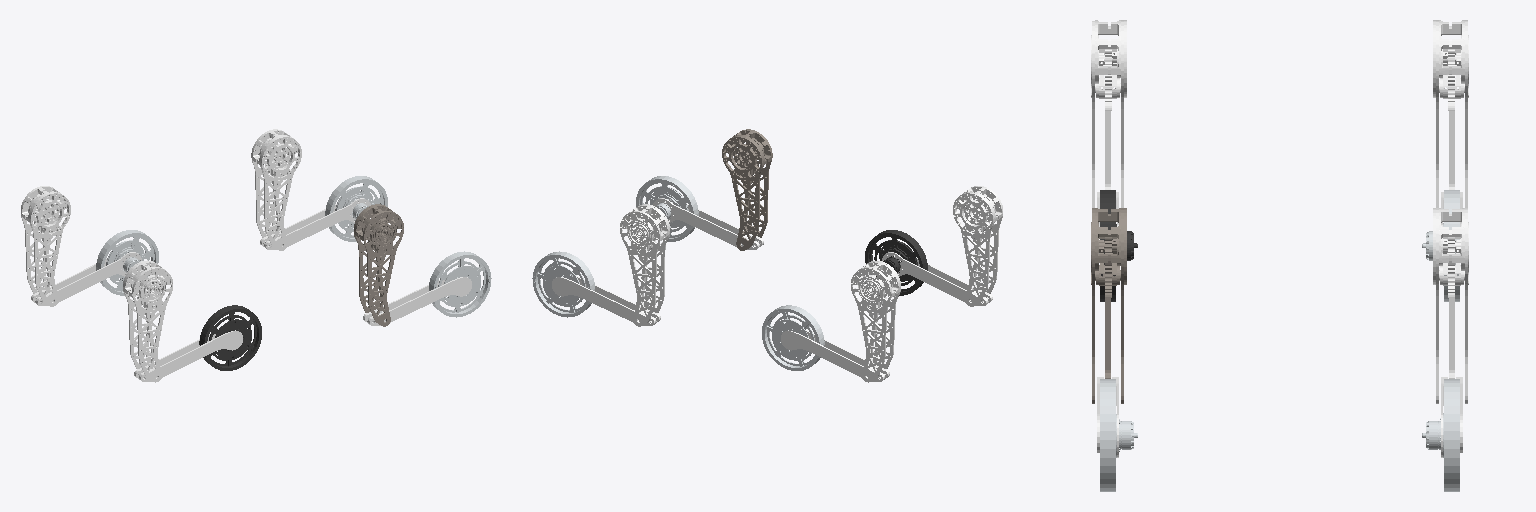
URDF robot description (dog):
<?xml version="1.0" encoding="utf-8"?>
<!-- This URDF was automatically created by SolidWorks to URDF Exporter! Originally created by Stephen Brawner (brawner@gmail.com) 
     Commit Version: 1.6.0-4-g7f85cfe  Build Version: 1.6.7995.38578
     For more information, please see http://wiki.ros.org/sw_urdf_exporter -->
<robot
  name="dog">
  <link
    name="base_link">
    <inertial>
      <origin
        xyz="-0.000978596710737544 -2.76671556373367E-06 0.0048537144010132"
        rpy="0 0 0" />
      <mass
        value="6.554" />
      <inertia
        ixx="0.070924348"
        ixy="-0.000000893"
        ixz="-0.000334625"
        iyy="0.214429824"
        iyz="-0.000000488"
        izz="0.271037828" />
    </inertial>
    <visual>
      <origin
        xyz="0 0 0"
        rpy="0 0 0" />
      <geometry>
        <mesh
          filename="meshes/base_link.STL" />
      </geometry>
      <material
        name="">
        <color
          rgba="0.752941176470588 0.752941176470588 0.752941176470588 1" />
      </material>
    </visual>
    <collision>
      <origin
        xyz="0 0 0"
        rpy="0 0 0" />
      <geometry>
        <mesh
          filename="meshes/base_link.STL" />
      </geometry>
    </collision>
  </link>
  <link
    name="imu_link">
    <inertial>
      <origin xyz="0 0 0" rpy="0 0 0" />
      <mass value="0.01" />
      <inertia ixx="1e-06" ixy="0" ixz="0" iyy="1e-06" iyz="0" izz="1e-06" />
    </inertial>
  </link>

  <joint name="imu_joint" type="fixed">
    <origin xyz="0 0 0.062" rpy="0 0 0" />
    <parent link="base_link" />
    <child link="imu_link" />
  </joint>
  
  <link
    name="lf_leg_link">
    <inertial>
      <origin
        xyz="0.0815883862244149 0.0369033194457119 1.2458898216848E-05"
        rpy="0 0 0" />
      <mass
        value="1.791" />
      <inertia
        ixx="0.003851386"
        ixy="-0.000179885"
        ixz="-0.000004004"
        iyy="0.002697626"
        iyz="0.000001446"
        izz="0.004071868" />
    </inertial>
    <visual>
      <origin
        xyz="0 0 0"
        rpy="0 0 0" />
      <geometry>
        <mesh
          filename="meshes/lf_leg_link.STL" />
      </geometry>
      <material
        name="">
        <color
          rgba="0.752941176470588 0.752941176470588 0.752941176470588 1" />
      </material>
    </visual>
    <collision>
      <origin
        xyz="0 0 0"
        rpy="0 0 0" />
      <geometry>
        <mesh
          filename="meshes/lf_leg_link.STL" />
      </geometry>
    </collision>
  </link>
  <joint
    name="lf_leg_joint"
    type="revolute">
    <origin
      xyz="0.2305 0.12 0"
      rpy="0 0 0" />
    <parent
      link="base_link" />
    <child
      link="lf_leg_link" />
    <axis
      xyz="1 0 0" />
    <limit
      lower="-1.0472"
      upper="1.0472"
      effort="35.5"
      velocity="30.1" />
  </joint>
  <link
    name="lf_bleg_link">
    <inertial>
      <origin
        xyz="0.00326969519799225 0.125584147008189 -0.0345091294437729"
        rpy="0 0 0" />
      <mass
        value="0.533" />
      <inertia
        ixx="0.002211625"
        ixy="0.000001148"
        ixz="-0.000227446"
        iyy="0.002380324"
        iyz="-0.000008116"
        izz="0.000413591" />
    </inertial>
    <visual>
      <origin
        xyz="0 0 0"
        rpy="0 0 0" />
      <geometry>
        <mesh
          filename="meshes/lf_bleg_link.STL" />
      </geometry>
      <material
        name="">
        <color
          rgba="1 1 1 1" />
      </material>
    </visual>
    <collision>
      <origin
        xyz="0 0 0"
        rpy="0 0 0" />
      <geometry>
        <mesh
          filename="meshes/lf_bleg_link.STL" />
      </geometry>
    </collision>
  </link>
  <joint
    name="lf_bleg_joint"
    type="revolute">
    <origin
      xyz="0.0858 0 0"
      rpy="0 0 0" />
    <parent
      link="lf_leg_link" />
    <child
      link="lf_bleg_link" />
    <axis
      xyz="0 1 0" />
    <limit
      lower="-1.5707963267948966"
      upper="3.4907"
      effort="35.5"
      velocity="30.1" />
  </joint>
  <link
    name="lf_sleg_link">
    <inertial>
      <origin
        xyz="-0.00104998612844398 0.000402816132214073 -0.0800372615092895"
        rpy="0 0 0" />
      <mass
        value="0.170" />
      <inertia
        ixx="0.001426718"
        ixy="0.000000316"
        ixz="0.000030146"
        iyy="0.001421379"
        iyz="-0.000010870"
        izz="0.000044894" />
    </inertial>
    <visual>
      <origin
        xyz="0 0 0"
        rpy="0 0 0" />
      <geometry>
        <mesh
          filename="meshes/lf_sleg_link.STL" />
      </geometry>
      <material
        name="">
        <color
          rgba="1 1 1 1" />
      </material>
    </visual>
    <collision>
      <origin
        xyz="0 0 0"
        rpy="0 0 0" />
      <geometry>
        <mesh
          filename="meshes/lf_sleg_link.STL" />
      </geometry>
    </collision>
  </link>
  <joint
    name="lf_sleg_joint"
    type="revolute">
    <origin
      xyz="0.0037736 0.12515 -0.22997"
      rpy="0 0 0" />
    <parent
      link="lf_bleg_link" />
    <child
      link="lf_sleg_link" />
    <axis
      xyz="0 1 0" />
    <limit
      lower="-2.7227"
      upper="-0.83776"
      effort="35.55"
      velocity="20.07" />
  </joint>
  <link
    name="lf_foot_link">
    <inertial>
      <origin
        xyz="2.52484901991368E-05 0.00798358943413996 7.75942100631477E-05"
        rpy="0 0 0" />
      <mass
        value="0.458" />
      <inertia
        ixx="0.000652726"
        ixy="0.000000144"
        ixz="0.000000224"
        iyy="0.001239715"
        iyz="-0.000000515"
        izz="0.000653511" />
    </inertial>
    <visual>
      <origin
        xyz="0 0 0"
        rpy="0 0 0" />
      <geometry>
        <mesh
          filename="meshes/lf_foot_link.STL" />
      </geometry>
      <material
        name="">
        <color
          rgba="0.898039215686275 0.917647058823529 0.929411764705882 1" />
      </material>
    </visual>
    <collision>
      <origin
        xyz="0 0 0"
        rpy="0 0 0" />
      <geometry>
        <mesh
          filename="meshes/lf_foot_link.STL" />
      </geometry>
    </collision>
  </link>
  <joint
    name="lf_foot_joint"
    type="revolute">
    <origin
      xyz="-0.010266 0 -0.21976"
      rpy="0 0 0" />
    <parent
      link="lf_sleg_link" />
    <child
      link="lf_foot_link" />
    <axis
      xyz="0 1 0" />
    <limit
      lower="-999999"
      upper="999999"
      effort="5"
      velocity="30.1" />
  </joint>
  <link
    name="rf_leg_link">
    <inertial>
      <origin
        xyz="0.0815162443244064 -0.036903319498196 2.7081261369237E-05"
        rpy="0 0 0" />
      <mass
        value="1.791" />
      <inertia
        ixx="0.003851256"
        ixy="0.000180239"
        ixz="-0.000002135"
        iyy="0.002697810"
        iyz="-0.000001618"
        izz="0.004072181" />
    </inertial>
    <visual>
      <origin
        xyz="0 0 0"
        rpy="0 0 0" />
      <geometry>
        <mesh
          filename="meshes/rf_leg_link.STL" />
      </geometry>
      <material
        name="">
        <color
          rgba="0.752941176470588 0.752941176470588 0.752941176470588 1" />
      </material>
    </visual>
    <collision>
      <origin
        xyz="0 0 0"
        rpy="0 0 0" />
      <geometry>
        <mesh
          filename="meshes/rf_leg_link.STL" />
      </geometry>
    </collision>
  </link>
  <joint
    name="rf_leg_joint"
    type="revolute">
    <origin
      xyz="0.2305 -0.12 0"
      rpy="0 0 0" />
    <parent
      link="base_link" />
    <child
      link="rf_leg_link" />
    <axis
      xyz="1 0 0" />
    <limit
      lower="-1.0472"
      upper="1.0472"
      effort="35"
      velocity="30.1" />
  </joint>
  <link
    name="rf_bleg_link">
    <inertial>
      <origin
        xyz="0.00409489558347265 -0.125684084459192 -0.0390730043509865"
        rpy="0 0 0" />
      <mass
        value="0.575" />
      <inertia
        ixx="0.002662430"
        ixy="-0.000001405"
        ixz="-0.000286052"
        iyy="0.002851201"
        iyz="0.000009860"
        izz="0.000464119" />
    </inertial>
    <visual>
      <origin
        xyz="0 0 0"
        rpy="0 0 0" />
      <geometry>
        <mesh
          filename="meshes/rf_bleg_link.STL" />
      </geometry>
      <material
        name="">
        <color
          rgba="0.650980392156863 0.619607843137255 0.588235294117647 1" />
      </material>
    </visual>
    <collision>
      <origin
        xyz="0 0 0"
        rpy="0 0 0" />
      <geometry>
        <mesh
          filename="meshes/rf_bleg_link.STL" />
      </geometry>
    </collision>
  </link>
  <joint
    name="rf_bleg_joint"
    type="revolute">
    <origin
      xyz="0.0858 0 0"
      rpy="0 0 0" />
    <parent
      link="rf_leg_link" />
    <child
      link="rf_bleg_link" />
    <axis
      xyz="0 1 0" />
    <limit
      lower="-1.5707963267948966"
      upper="3.4907"
      effort="35"
      velocity="30.1" />
  </joint>
  <link
    name="rf_sleg_link">
    <inertial>
      <origin
        xyz="-0.0010633385106209 -0.000438703354105535 -0.0876607079824507"
        rpy="0 0 0" />
      <mass
        value="0.204" />
      <inertia
        ixx="0.001715399"
        ixy="-0.000000438"
        ixz="0.000034478"
        iyy="0.001707884"
        iyz="0.000013527"
        izz="0.000056121" />
    </inertial>
    <visual>
      <origin
        xyz="0 0 0"
        rpy="0 0 0" />
      <geometry>
        <mesh
          filename="meshes/rf_sleg_link.STL" />
      </geometry>
      <material
        name="">
        <color
          rgba="1 1 1 1" />
      </material>
    </visual>
    <collision>
      <origin
        xyz="0 0 0"
        rpy="0 0 0" />
      <geometry>
        <mesh
          filename="meshes/rf_sleg_link.STL" />
      </geometry>
    </collision>
  </link>
  <joint
    name="rf_sleg_joint"
    type="revolute">
    <origin
      xyz="0.0037736 -0.12515 -0.22997"
      rpy="0 0 0" />
    <parent
      link="rf_bleg_link" />
    <child
      link="rf_sleg_link" />
    <axis
      xyz="0 1 0" />
    <limit
      lower="-2.7227"
      upper="-0.83776"
      effort="35.55"
      velocity="20.07" />
  </joint>
  <link
    name="rf_foot_link">
    <inertial>
      <origin
        xyz="-7.4703061297976E-05 -0.00798358952703901 3.28284209103469E-05"
        rpy="0 0 0" />
      <mass
        value="0.458" />
      <inertia
        ixx="0.000652726"
        ixy="-0.000000260"
        ixz="0.000000417"
        iyy="0.001239715"
        iyz="0.000000474"
        izz="0.000653511" />
    </inertial>
    <visual>
      <origin
        xyz="0 0 0"
        rpy="0 0 0" />
      <geometry>
        <mesh
          filename="meshes/rf_foot_link.STL" />
      </geometry>
      <material
        name="">
        <color
          rgba="0.898039215686275 0.917647058823529 0.929411764705882 1" />
      </material>
    </visual>
    <collision>
      <origin
        xyz="0 0 0"
        rpy="0 0 0" />
      <geometry>
        <mesh
          filename="meshes/rf_foot_link.STL" />
      </geometry>
    </collision>
  </link>
  <joint
    name="rf_foot_joint"
    type="revolute">
    <origin
      xyz="-0.010266 0 -0.21976"
      rpy="0 0 0" />
    <parent
      link="rf_sleg_link" />
    <child
      link="rf_foot_link" />
    <axis
      xyz="0 1 0" />
    <limit
      lower="-999999"
      upper="999999"
      effort="5"
      velocity="30.1" />
  </joint>
  
  <link
    name="lb_leg_link">
    <inertial>
      <origin
        xyz="-0.0815075620121635 0.036903319351518 2.0373264315518E-05"
        rpy="0 0 0" />
      <mass
        value="1.791" />
      <inertia
        ixx="0.003852573"
        ixy="-0.000179455"
        ixz="0.000002808"
        iyy="0.002697549"
        iyz="-0.000001572"
        izz="0.004070605" />
    </inertial>
    <visual>
      <origin
        xyz="0 0 0"
        rpy="0 0 0" />
      <geometry>
        <mesh
          filename="meshes/lb_leg_link.STL" />
      </geometry>
      <material
        name="">
        <color
          rgba="0.752941176470588 0.752941176470588 0.752941176470588 1" />
      </material>
    </visual>
    <collision>
      <origin
        xyz="0 0 0"
        rpy="0 0 0" />
      <geometry>
        <mesh
          filename="meshes/lb_leg_link.STL" />
      </geometry>
    </collision>
  </link>
  <joint
    name="lb_leg_joint"
    type="revolute">
    <origin
      xyz="-0.2305 0.12 0"
      rpy="0 0 0" />
    <parent
      link="base_link" />
    <child
      link="lb_leg_link" />
    <axis
      xyz="1 0 0" />
    <limit
      lower="-1.0472"
      upper="1.0472"
      effort="35"
      velocity="30.1" />
  </joint>
  <link
    name="lb_bleg_link">
    <inertial>
      <origin
        xyz="0.00196378218185445 0.125584147006806 -0.0346080126948064"
        rpy="0 0 0" />
      <mass
        value="0.533" />
      <inertia
        ixx="0.002218919"
        ixy="0.000001008"
        ixz="-0.000196377"
        iyy="0.002380324"
        iyz="-0.000008135"
        izz="0.000406298" />
    </inertial>
    <visual>
      <origin
        xyz="0 0 0"
        rpy="0 0 0" />
      <geometry>
        <mesh
          filename="meshes/lb_bleg_link.STL" />
      </geometry>
      <material
        name="">
        <color
          rgba="1 1 1 1" />
      </material>
    </visual>
    <collision>
      <origin
        xyz="0 0 0"
        rpy="0 0 0" />
      <geometry>
        <mesh
          filename="meshes/lb_bleg_link.STL" />
      </geometry>
    </collision>
  </link>
  <joint
    name="lb_bleg_joint"
    type="revolute">
    <origin
      xyz="-0.0858 0 0"
      rpy="0 0 0" />
    <parent
      link="lb_leg_link" />
    <child
      link="lb_bleg_link" />
    <axis
      xyz="0 1 0" />
    <limit
      lower="-0.5236"
      upper="4.5379"
      effort="35"
      velocity="30.1" />
  </joint>
  <link
    name="lb_sleg_link">
    <inertial>
      <origin
        xyz="-0.00407263719956835 0.000402816132214073 -0.0799404736476897"
        rpy="0 0 0" />
      <mass
        value="0.170" />
      <inertia
        ixx="0.001425272"
        ixy="0.000000129"
        ixz="0.000053901"
        iyy="0.001421379"
        iyz="-0.000010874"
        izz="0.000046340" />
    </inertial>
    <visual>
      <origin
        xyz="0 0 0"
        rpy="0 0 0" />
      <geometry>
        <mesh
          filename="meshes/lb_sleg_link.STL" />
      </geometry>
      <material
        name="">
        <color
          rgba="1 1 1 1" />
      </material>
    </visual>
    <collision>
      <origin
        xyz="0 0 0"
        rpy="0 0 0" />
      <geometry>
        <mesh
          filename="meshes/lb_sleg_link.STL" />
      </geometry>
    </collision>
  </link>
  <joint
    name="lb_sleg_joint"
    type="revolute">
    <origin
      xyz="0.0094281 0.12515 -0.22981"
      rpy="0 0 0" />
    <parent
      link="lb_bleg_link" />
    <child
      link="lb_sleg_link" />
    <axis
      xyz="0 1 0" />
    <limit
      lower="-2.7227"
      upper="-0.83776"
      effort="35.55"
      velocity="20.07" />
  </joint>
  <link
    name="lb_foot_link">
    <inertial>
      <origin
        xyz="2.81615091776155E-05 0.00798358947806918 7.65851388199179E-05"
        rpy="0 0 0" />
      <mass
        value="0.458" />
      <inertia
        ixx="0.000652726"
        ixy="0.000000136"
        ixz="0.000000209"
        iyy="0.001239715"
        iyz="-0.000000524"
        izz="0.000654419" />
    </inertial>
    <visual>
      <origin
        xyz="0 0 0"
        rpy="0 0 0" />
      <geometry>
        <mesh
          filename="meshes/lb_foot_link.STL" />
      </geometry>
      <material
        name="">
        <color
          rgba="0.898039215686275 0.917647058823529 0.929411764705882 1" />
      </material>
    </visual>
    <collision>
      <origin
        xyz="0 0 0"
        rpy="0 0 0" />
      <geometry>
        <mesh
          filename="meshes/lb_foot_link.STL" />
      </geometry>
    </collision>
  </link>
  <joint
    name="lb_foot_joint"
    type="revolute">
    <origin
      xyz="-0.0048585 0 -0.21995"
      rpy="0 0 0" />
    <parent
      link="lb_sleg_link" />
    <child
      link="lb_foot_link" />
    <axis
      xyz="0 1 0" />
    <limit
      lower="-999999"
      upper="999999"
      effort="5"
      velocity="30.1" />
  </joint>
  <link
    name="rb_leg_link">
    <inertial>
      <origin
        xyz="-0.0815726926042917 -0.0369033193657928 -2.16513675831143E-05"
        rpy="0 0 0" />
      <mass
        value="1.791" />
      <inertia
        ixx="0.003846651"
        ixy="0.000180937"
        ixz="0.000000618"
        iyy="0.002697879"
        iyz="0.000000435"
        izz="0.004076856" />
    </inertial>
    <visual>
      <origin
        xyz="0 0 0"
        rpy="0 0 0" />
      <geometry>
        <mesh
          filename="meshes/rb_leg_link.STL" />
      </geometry>
      <material
        name="">
        <color
          rgba="0.752941176470588 0.752941176470588 0.752941176470588 1" />
      </material>
    </visual>
    <collision>
      <origin
        xyz="0 0 0"
        rpy="0 0 0" />
      <geometry>
        <mesh
          filename="meshes/rb_leg_link.STL" />
      </geometry>
    </collision>
  </link>
  <joint
    name="rb_leg_joint"
    type="revolute">
    <origin
      xyz="-0.2305 -0.12 0"
      rpy="0 0 0" />
    <parent
      link="base_link" />
    <child
      link="rb_leg_link" />
    <axis
      xyz="1 0 0" />
    <limit
      lower="-1.0472"
      upper="1.0472"
      effort="35"
      velocity="30.1" />
  </joint>
  <link
    name="rb_bleg_link">
    <inertial>
      <origin
        xyz="0.00261599356414133 -0.125684084536252 -0.0391998017606588"
        rpy="0 0 0" />
      <mass
        value="0.575" />
      <inertia
        ixx="0.002671622"
        ixy="-0.000001235"
        ixz="-0.000248063"
        iyy="0.002851201"
        iyz="0.000009882"
        izz="0.000454927" />
    </inertial>
    <visual>
      <origin
        xyz="0 0 0"
        rpy="0 0 0" />
      <geometry>
        <mesh
          filename="meshes/rb_bleg_link.STL" />
      </geometry>
      <material
        name="">
        <color
          rgba="1 1 1 1" />
      </material>
    </visual>
    <collision>
      <origin
        xyz="0 0 0"
        rpy="0 0 0" />
      <geometry>
        <mesh
          filename="meshes/rb_bleg_link.STL" />
      </geometry>
    </collision>
  </link>
  <joint
    name="rb_bleg_joint"
    type="revolute">
    <origin
      xyz="-0.0858 0 0"
      rpy="0 0 0" />
    <parent
      link="rb_leg_link" />
    <child
      link="rb_bleg_link" />
    <axis
      xyz="0 1 0" />
    <limit
      lower="-0.5236"
      upper="4.5379"
      effort="35"
      velocity="30.1" />
  </joint>
  <link
    name="rb_sleg_link">
    <inertial>
      <origin
        xyz="-0.00437395506802524 -0.000438703354105507 -0.0875579746786982"
        rpy="0 0 0" />
      <mass
        value="0.204" />
      <inertia
        ixx="0.001713722"
        ixy="-0.000000205"
        ixz="0.000063004"
        iyy="0.001707884"
        iyz="0.000013533"
        izz="0.000057799" />
    </inertial>
    <visual>
      <origin
        xyz="0 0 0"
        rpy="0 0 0" />
      <geometry>
        <mesh
          filename="meshes/rb_sleg_link.STL" />
      </geometry>
      <material
        name="">
        <color
          rgba="1 1 1 1" />
      </material>
    </visual>
    <collision>
      <origin
        xyz="0 0 0"
        rpy="0 0 0" />
      <geometry>
        <mesh
          filename="meshes/rb_sleg_link.STL" />
      </geometry>
    </collision>
  </link>
  <joint
    name="rb_sleg_joint"
    type="revolute">
    <origin
      xyz="0.0094281 -0.12515 -0.22981"
      rpy="0 0 0" />
    <parent
      link="rb_bleg_link" />
    <child
      link="rb_sleg_link" />
    <axis
      xyz="0 1 0" />
    <limit
      lower="-2.7227"
      upper="-0.83776"
      effort="35.55"
      velocity="20.07" />
  </joint>
  <link
    name="rb_foot_link">
    <inertial>
      <origin
        xyz="-7.34096656683225E-05 -0.00798358954436615 3.56269342989823E-05"
        rpy="0 0 0" />
      <mass
        value="0.458" />
      <inertia
        ixx="0.000652726"
        ixy="-0.000000252"
        ixz="0.000000409"
        iyy="0.001239715"
        iyz="0.000000479"
        izz="0.000653511" />
    </inertial>
    <visual>
      <origin
        xyz="0 0 0"
        rpy="0 0 0" />
      <geometry>
        <mesh
          filename="meshes/rb_foot_link.STL" />
      </geometry>
      <material
        name="">
        <color
          rgba="0.298039215686275 0.298039215686275 0.298039215686275 1" />
      </material>
    </visual>
    <collision>
      <origin
        xyz="0 0 0"
        rpy="0 0 0" />
      <geometry>
        <mesh
          filename="meshes/rb_foot_link.STL" />
      </geometry>
    </collision>
  </link>
  <joint
    name="rb_foot_joint"
    type="revolute">
    <origin
      xyz="-0.0048585 0 -0.21995"
      rpy="0 0 0" />
    <parent
      link="rb_sleg_link" />
    <child
      link="rb_foot_link" />
    <axis
      xyz="0 1 0" />
    <limit
      lower="-999999"
      upper="999999"
      effort="5"
      velocity="30.1" />
  </joint>
</robot>

--- What the picture shows (computed from the rendered views, not written in the file) ---
3 views of the same robot in one strip: view 1: azimuth 30°, elevation 25°; view 2: azimuth 150°, elevation 25°; view 3: azimuth 270°, elevation 25° (orthographic).
Model dog with 18 links and 17 joints (16 revolute, 1 fixed), rooted at base_link, posed all joints at 0 but 4 set to mid-range because 0 is outside their limits (lf_sleg_joint = -1.78, rf_sleg_joint = -1.78, lb_sleg_joint = -1.78, rb_sleg_joint = -1.78).
Visible links, largest first — view 1: rf_bleg_link, lf_bleg_link, rb_bleg_link, lb_bleg_link, rb_foot_link, rf_foot_link, lb_foot_link, lf_foot_link, rb_sleg_link, rf_sleg_link, lb_sleg_link, lf_sleg_link; view 2: lf_bleg_link, rf_bleg_link, lb_bleg_link, rb_bleg_link, lf_foot_link, lb_foot_link, rb_foot_link, rf_foot_link, lb_sleg_link, lf_sleg_link, rb_sleg_link, rf_sleg_link; view 3: lf_bleg_link, rf_bleg_link, lb_bleg_link, rb_bleg_link, rf_foot_link, lf_foot_link, lb_foot_link, rb_foot_link.
Boxes of the visible links, left/top/right/bottom form: rf_bleg_link: left=354, top=204, right=403, bottom=326; lf_bleg_link: left=251, top=129, right=301, bottom=250; rb_bleg_link: left=123, top=260, right=172, bottom=382; lb_bleg_link: left=21, top=186, right=70, bottom=306; rb_foot_link: left=199, top=305, right=261, bottom=370; rf_foot_link: left=429, top=251, right=491, bottom=317; lb_foot_link: left=96, top=230, right=158, bottom=295; lf_foot_link: left=325, top=176, right=387, bottom=241; rb_sleg_link: left=134, top=329, right=242, bottom=381; rf_sleg_link: left=363, top=277, right=471, bottom=325; lb_sleg_link: left=31, top=252, right=141, bottom=305; lf_sleg_link: left=260, top=198, right=370, bottom=249; lf_bleg_link: left=620, top=204, right=669, bottom=326; rf_bleg_link: left=722, top=129, right=772, bottom=250; lb_bleg_link: left=851, top=261, right=900, bottom=382; rb_bleg_link: left=953, top=186, right=1002, bottom=306; lf_foot_link: left=532, top=251, right=594, bottom=317; lb_foot_link: left=762, top=305, right=824, bottom=370; rb_foot_link: left=865, top=230, right=927, bottom=295; rf_foot_link: left=636, top=176, right=698, bottom=241; lb_sleg_link: left=781, top=330, right=889, bottom=381; lf_sleg_link: left=552, top=276, right=660, bottom=325; rb_sleg_link: left=882, top=252, right=992, bottom=305; rf_sleg_link: left=653, top=198, right=763, bottom=249; lf_bleg_link: left=1433, top=208, right=1468, bottom=403; rf_bleg_link: left=1091, top=208, right=1126, bottom=403; lb_bleg_link: left=1433, top=20, right=1468, bottom=207; rb_bleg_link: left=1091, top=20, right=1126, bottom=207; rf_foot_link: left=1100, top=379, right=1137, bottom=491; lf_foot_link: left=1422, top=379, right=1459, bottom=491; lb_foot_link: left=1422, top=190, right=1459, bottom=301; rb_foot_link: left=1100, top=190, right=1137, bottom=301.
Bounding box of the posed robot: 0.9884 × 0.5393 × 0.3293 m (x, y, z).
12 mesh visuals loaded from 17 distinct referenced files (12 binary STL); not drawn: 5 (reference not matched to a file when rendering).
